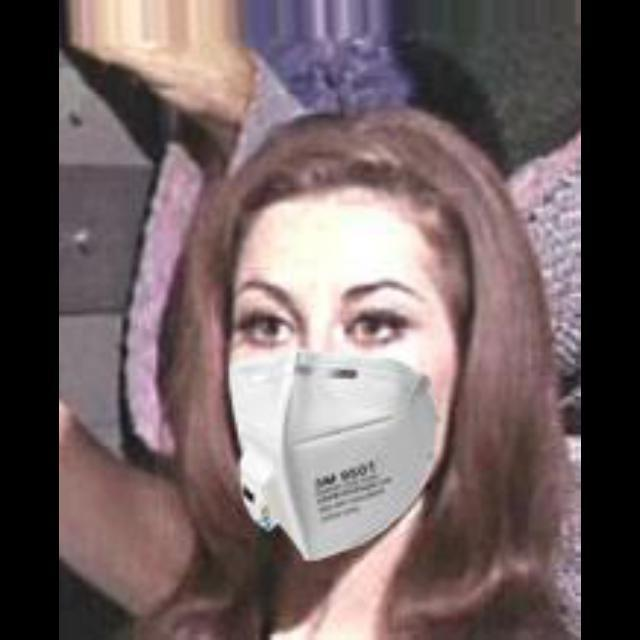suspicion: (216, 134, 486, 534)
